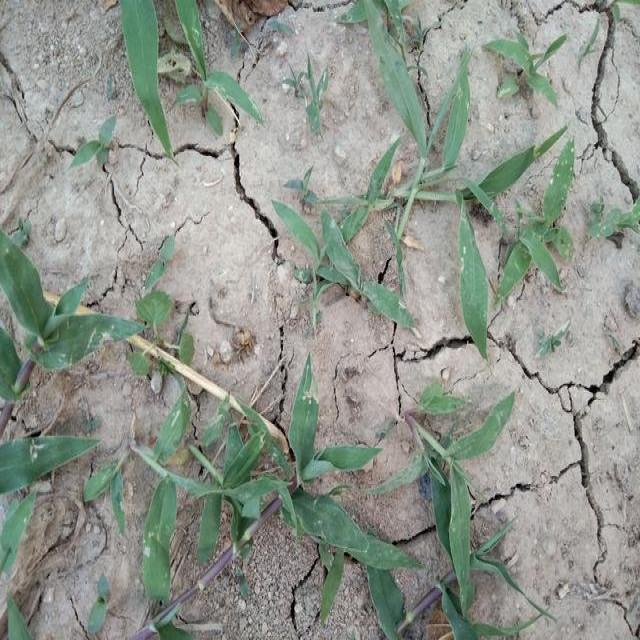weed: (404, 4, 582, 330), (164, 414, 431, 624), (0, 244, 150, 505), (408, 376, 507, 640), (124, 0, 255, 157), (271, 192, 419, 324)
